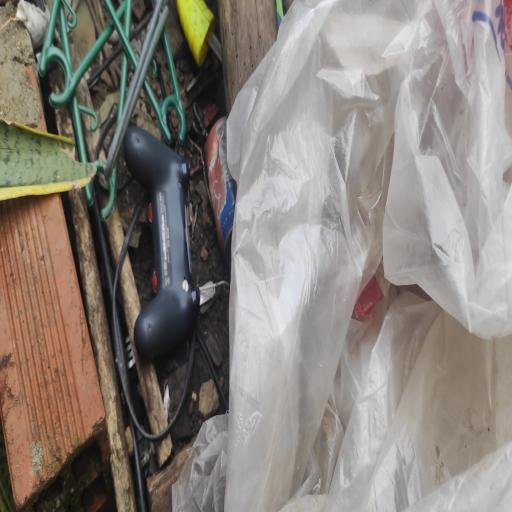ControlPlay4: (124, 127, 199, 359)
